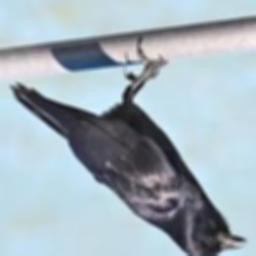Crow: (9, 50, 248, 256)
